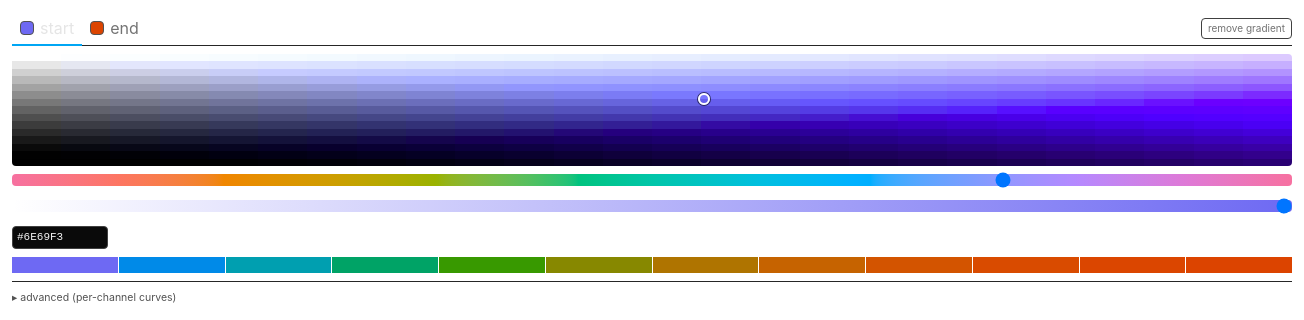
ColourEditor, a gradient › shows the sweep target when end is selected
Click the button with aria-label "fill end" at [115, 29], box [82,12,147,46]
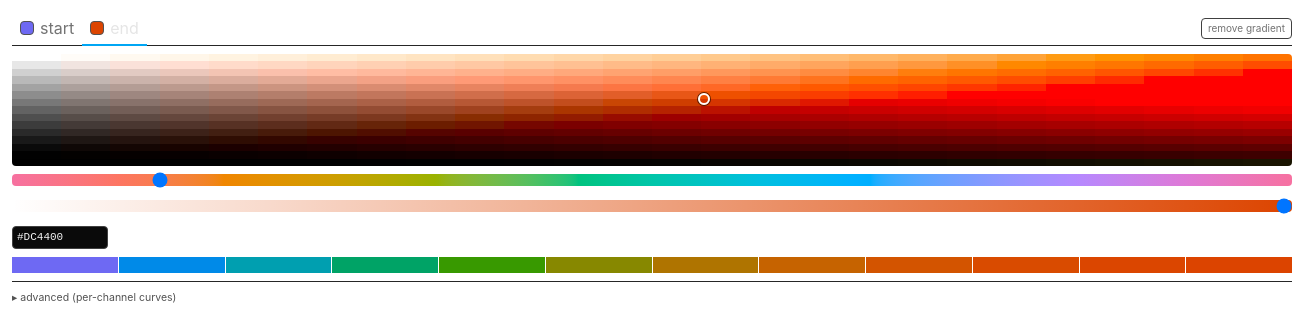
Result: the slider named "fill end hue" holds "40" at [12,174,1292,186]
